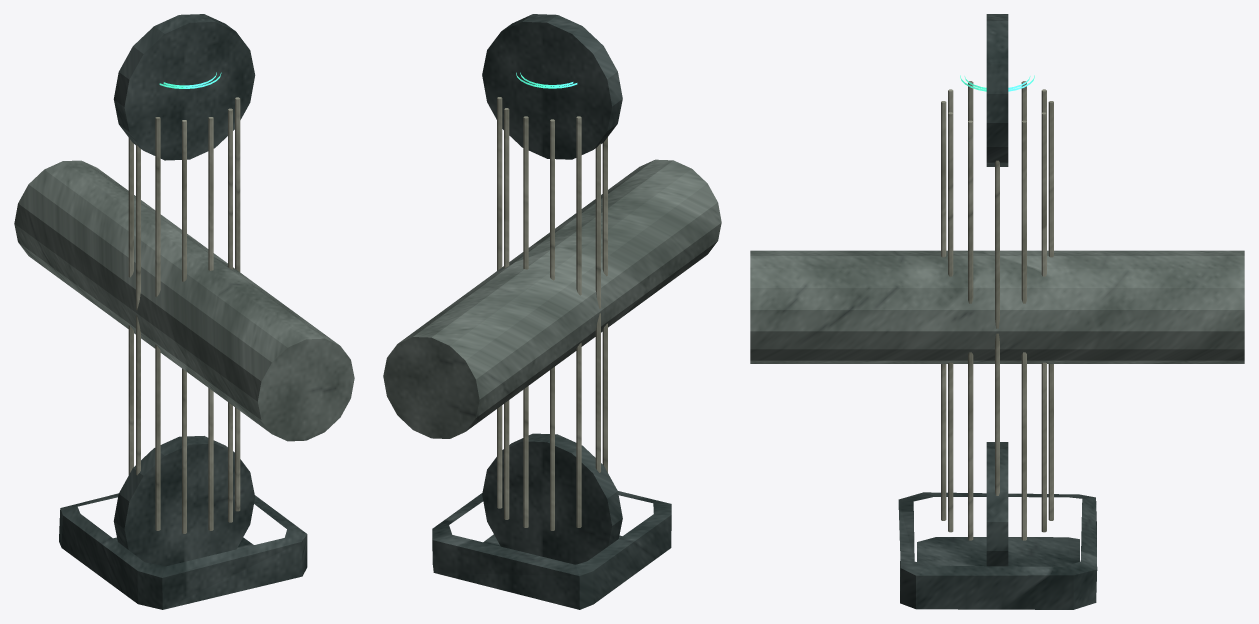
The model's file is 0289_fluted_column_14.glb.
3 renders of one model, left to right at view 1: azimuth 30°, elevation 25°; view 2: azimuth 150°, elevation 25°; view 3: azimuth 270°, elevation 25°, orthographic. The views are drawn at different scales.
Parts seen in each view (by area): view 1: stone, stone_dark, stone_light; view 2: stone, stone_dark, stone_light; view 3: stone, stone_dark, stone_light.
Boxes of the visible parts, left/top/right/bottom form: stone: left=14, top=160, right=354, bottom=441; stone_dark: left=59, top=14, right=307, bottom=609; stone_light: left=128, top=97, right=240, bottom=533; stone: left=383, top=159, right=721, bottom=438; stone_dark: left=432, top=14, right=671, bottom=609; stone_light: left=497, top=97, right=607, bottom=530; stone: left=750, top=250, right=1244, bottom=363; stone_dark: left=898, top=14, right=1097, bottom=609; stone_light: left=941, top=81, right=1053, bottom=540.
Bounding box in the file's own units: 1.25 × 4.02 × 3.17.
Materials: 4 (4 with a texture image).
